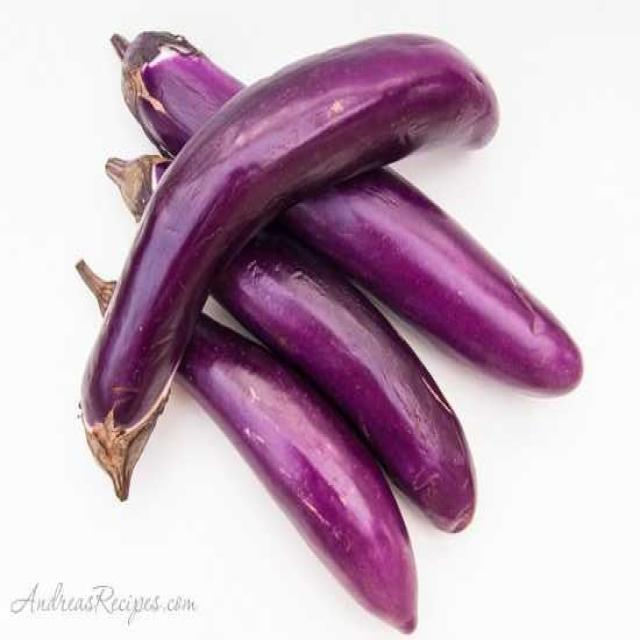Eggplant-r1Ob: (81, 35, 497, 491)
